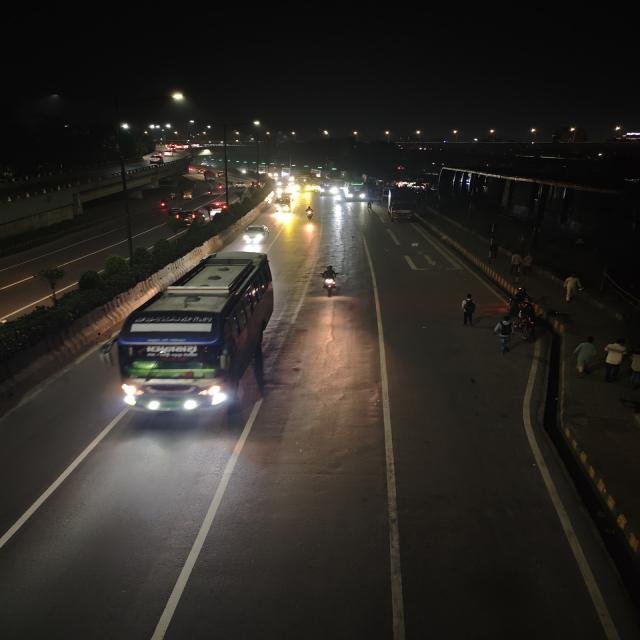bus: (111, 250, 277, 426), (344, 177, 368, 203), (318, 175, 340, 197), (295, 176, 313, 192)
car: (238, 222, 270, 250), (172, 205, 207, 227), (274, 198, 294, 214), (212, 199, 228, 211), (149, 154, 164, 164)
cng: (180, 188, 194, 201)
motorcycle: (512, 296, 544, 348), (317, 264, 347, 298), (155, 197, 170, 211), (303, 206, 316, 220), (214, 182, 224, 194)
pedestrian: (600, 337, 628, 383), (570, 335, 598, 379), (490, 316, 517, 354), (457, 292, 480, 326), (561, 273, 586, 303), (626, 343, 640, 388), (507, 250, 526, 276)
truck: (383, 187, 418, 224)
